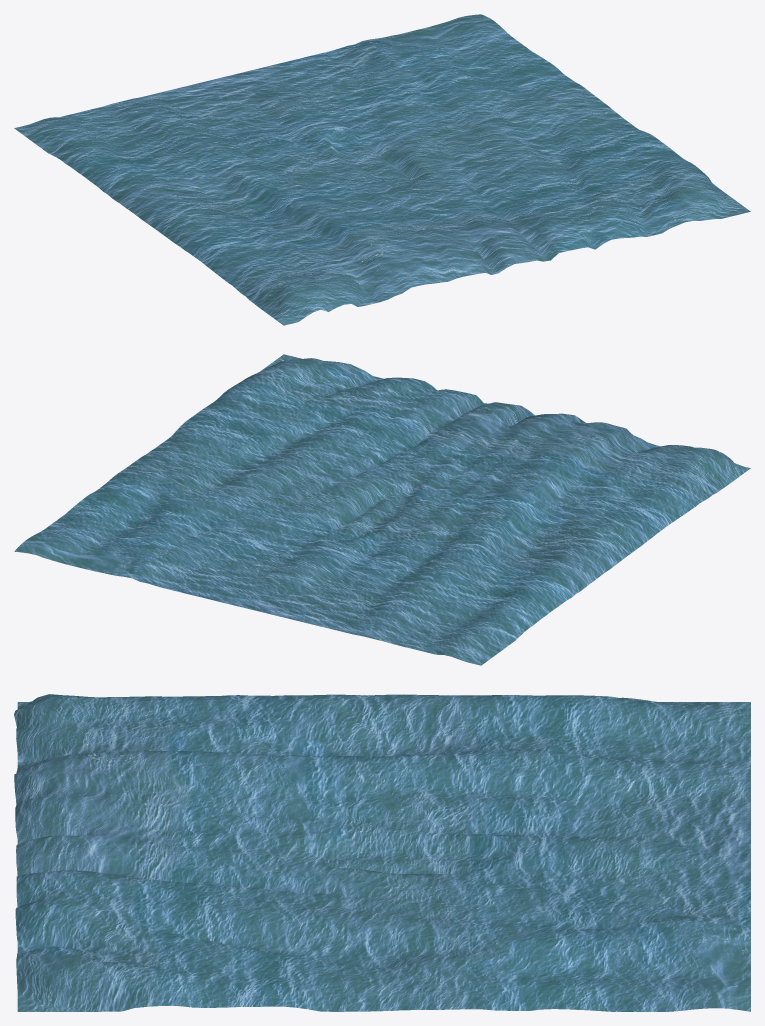
The picture shows the model from 3 angles, top to bottom: view 1: azimuth 30°, elevation 25°; view 2: azimuth 150°, elevation 25°; view 3: azimuth 270°, elevation 25°; orthographic projection. The views are drawn at different scales.
Parts seen in each view (by area): view 1: Grid; view 2: Grid; view 3: Grid.
Boxes of the visible parts, x1,y1,x2,y2 form: Grid: (14,14,750,325); Grid: (14,354,750,665); Grid: (14,694,750,1011).
Size of the model in its own units: 100 by 5.82 by 101.
1 material, 1 textured.
